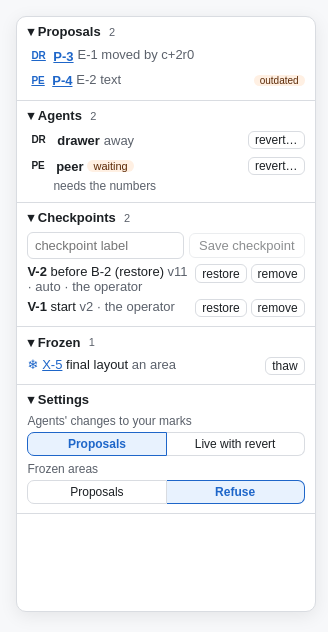
Test: revert all by <name> › a choice with nothing to revert is disabled
This screenshot has width=328, height=632.
Click the button "revert…" next to "waiting". click: (276,166)
box: [248,157,305,175]
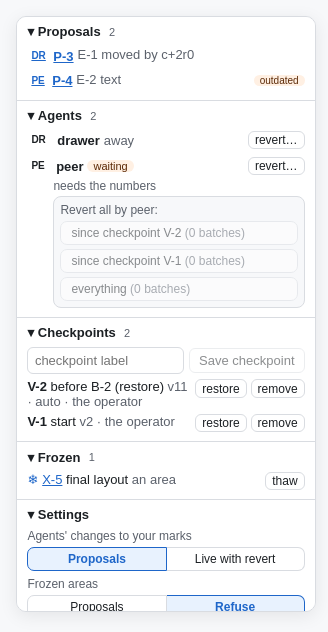
Check: the menu item "everything (0 batches)" is disabled, box [60,277,298,301]
